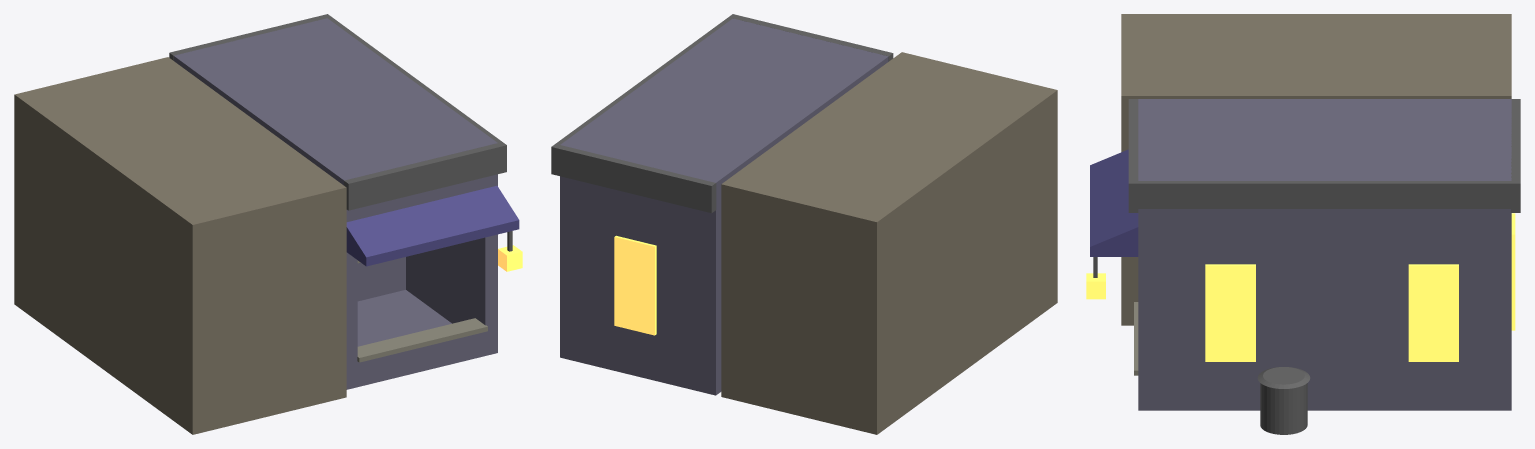
3 views of the same model, side by side, from view 1: azimuth 30°, elevation 25°; view 2: azimuth 150°, elevation 25°; view 3: azimuth 270°, elevation 25° (orthographic). The views are drawn at different scales.
Parts seen in each view (by area): view 1: Cube.028, Cube.001, Cube.002, Cube.011, Cube, Cube.010, Cube.012, Cube.007; view 2: Cube.028, Cube.001, Cube.012, Cube.013, Cube.010, Cube.011; view 3: Cube.001, Cube.028, Cube.010, Cube.008, Cube.009, Cube.002, Cylinder, Cube.011, Cube.012, Cylinder.001, Cube.013, Cube.007.
Part boxes in pixels (<box>): Cube.028: <box>14,57,346,434</box>; Cube.001: <box>174,18,497,389</box>; Cube.002: <box>346,185,519,266</box>; Cube.011: <box>344,142,506,210</box>; Cube: <box>357,318,487,362</box>; Cube.010: <box>327,17,501,142</box>; Cube.012: <box>169,14,331,60</box>; Cube.007: <box>498,245,522,271</box>; Cube.028: <box>721,52,1057,434</box>; Cube.001: <box>560,18,888,395</box>; Cube.012: <box>551,143,716,213</box>; Cube.013: <box>614,235,656,335</box>; Cube.010: <box>556,17,732,144</box>; Cube.011: <box>729,14,893,61</box>; Cube.001: <box>1138,99,1511,410</box>; Cube.028: <box>1121,14,1511,325</box>; Cube.010: <box>1138,181,1511,208</box>; Cube.008: <box>1205,264,1255,361</box>; Cube.009: <box>1408,264,1458,361</box>; Cube.002: <box>1090,149,1138,256</box>; Cylinder: <box>1260,383,1307,434</box>; Cube.011: <box>1128,99,1138,212</box>; Cube.012: <box>1511,99,1520,212</box>; Cylinder.001: <box>1257,366,1310,388</box>; Cube.013: <box>1511,213,1515,330</box>; Cube.007: <box>1086,273,1105,299</box>.
Bounding box in the file's own units: 14.51 × 8.11 × 13.88.
